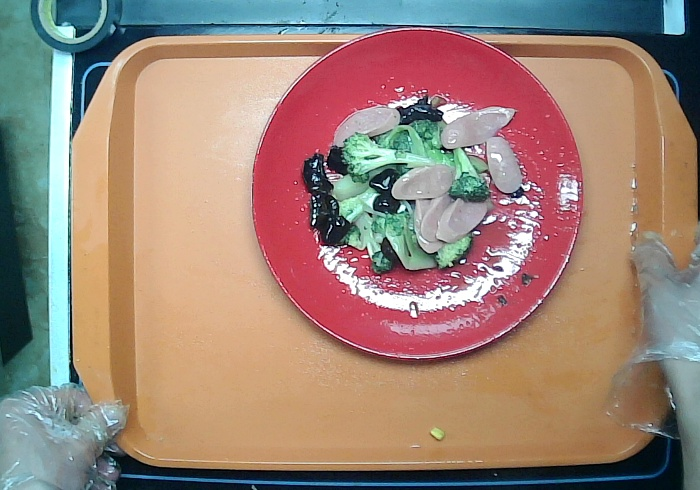HZYJPL-Hong_Se_Yuan_Pan: (244, 20, 585, 370)
